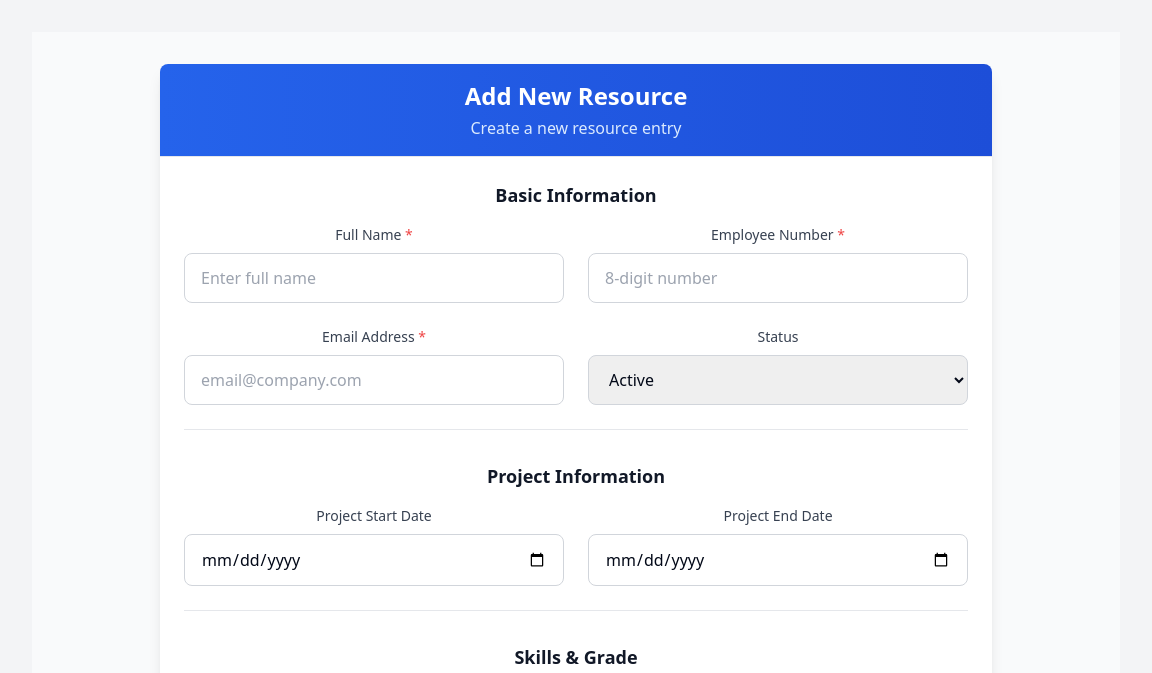
Test case: ResourceForm › Form Validation › should validate project dates
// Fill in required fields with invalid dates
Type "John Doe" into the field labelled "Full Name *".
click(374, 278); type("John Doe")  # box [184, 253, 564, 303]
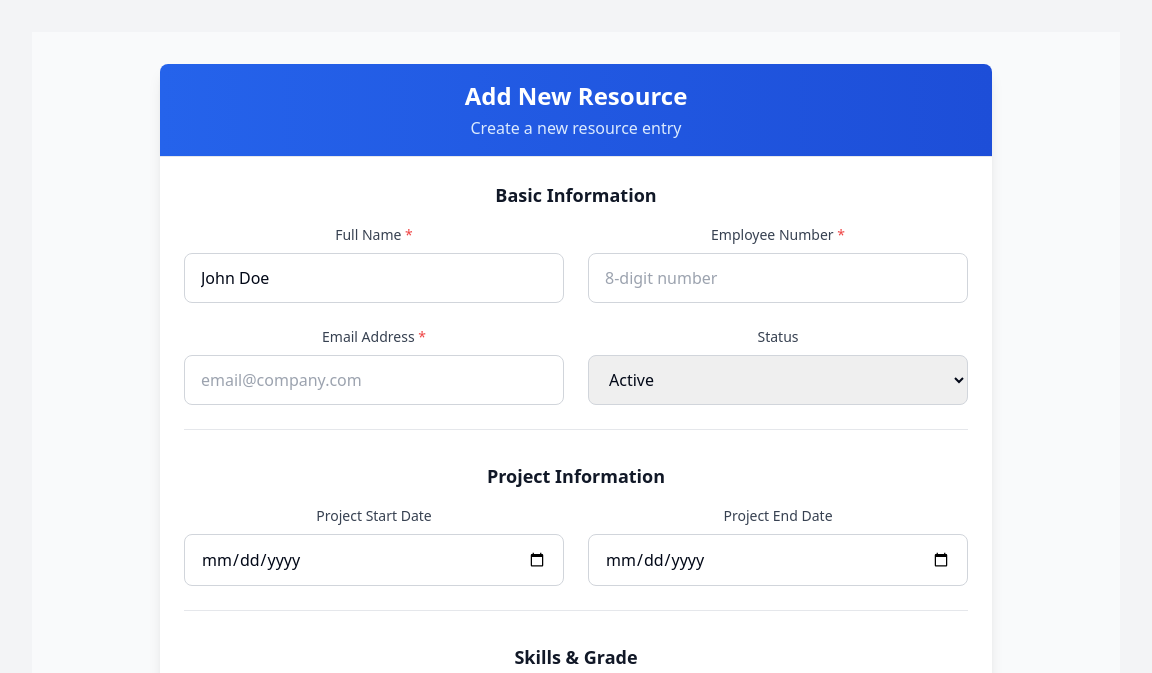
Type "12345678" into the field labelled "Employee Number *".
click(778, 278); type("12345678")  # box [588, 253, 968, 303]
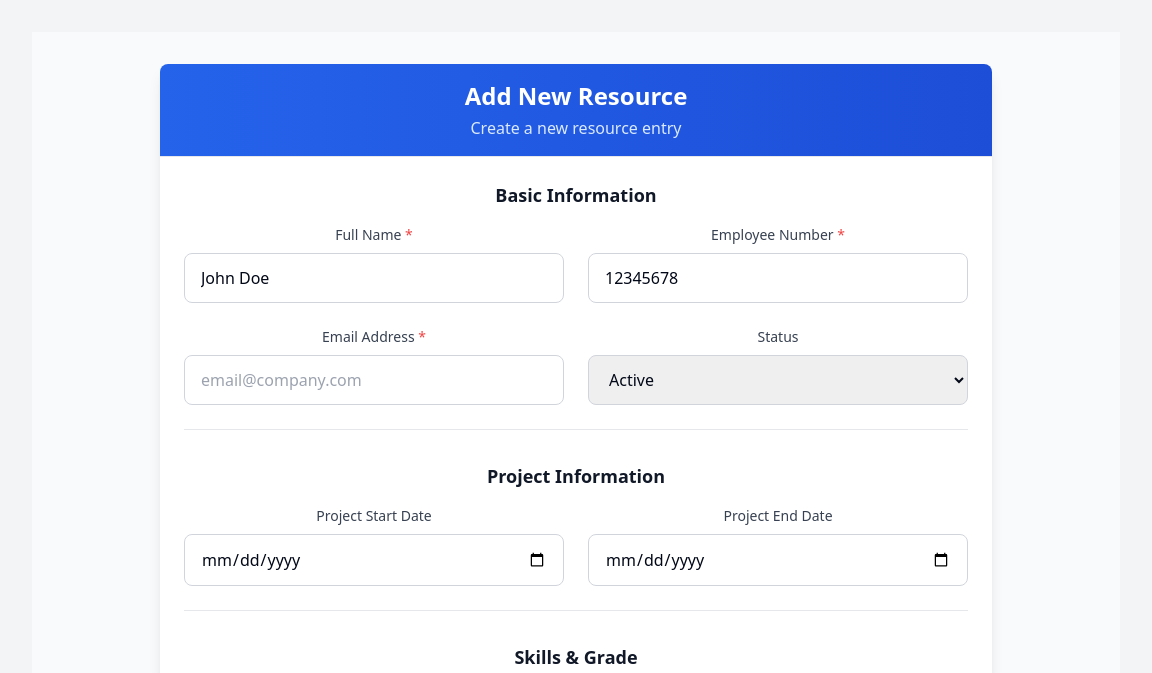
Type "john.doe@example.com" into the field labelled "Email Address *".
click(374, 380); type("john.doe@example.com")  # box [184, 355, 564, 405]
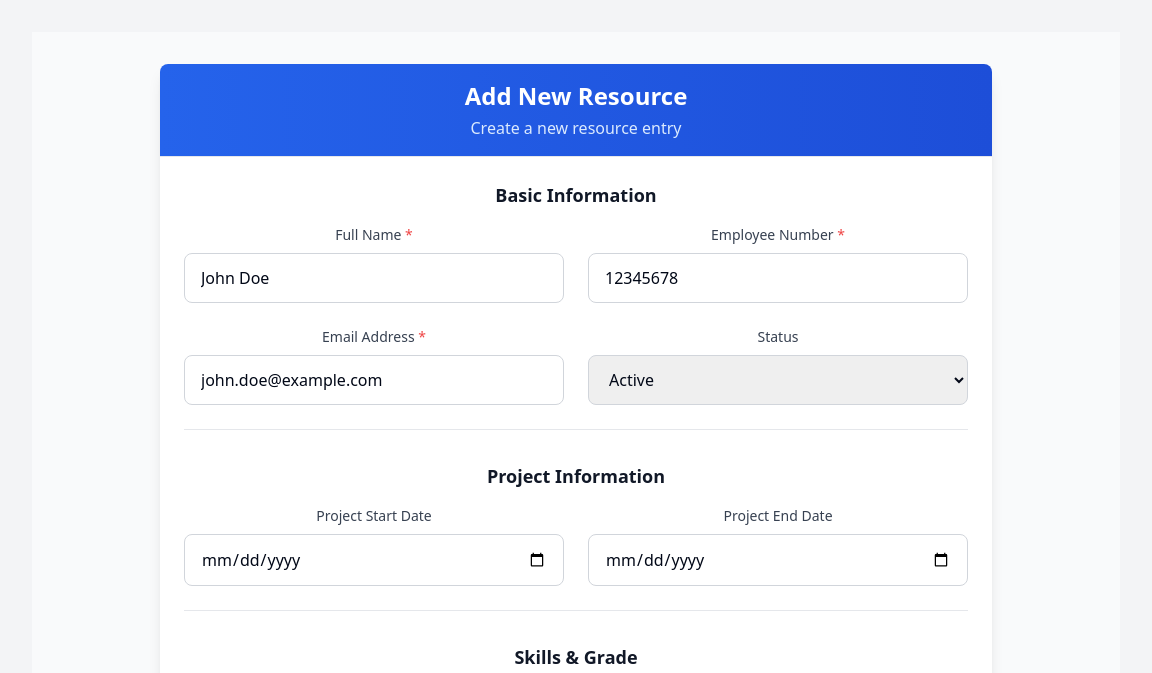
Type "2024-12-31" into the date field labelled "Project Start Date".
click(374, 560); type("2024-12-31")  # box [184, 534, 564, 586]
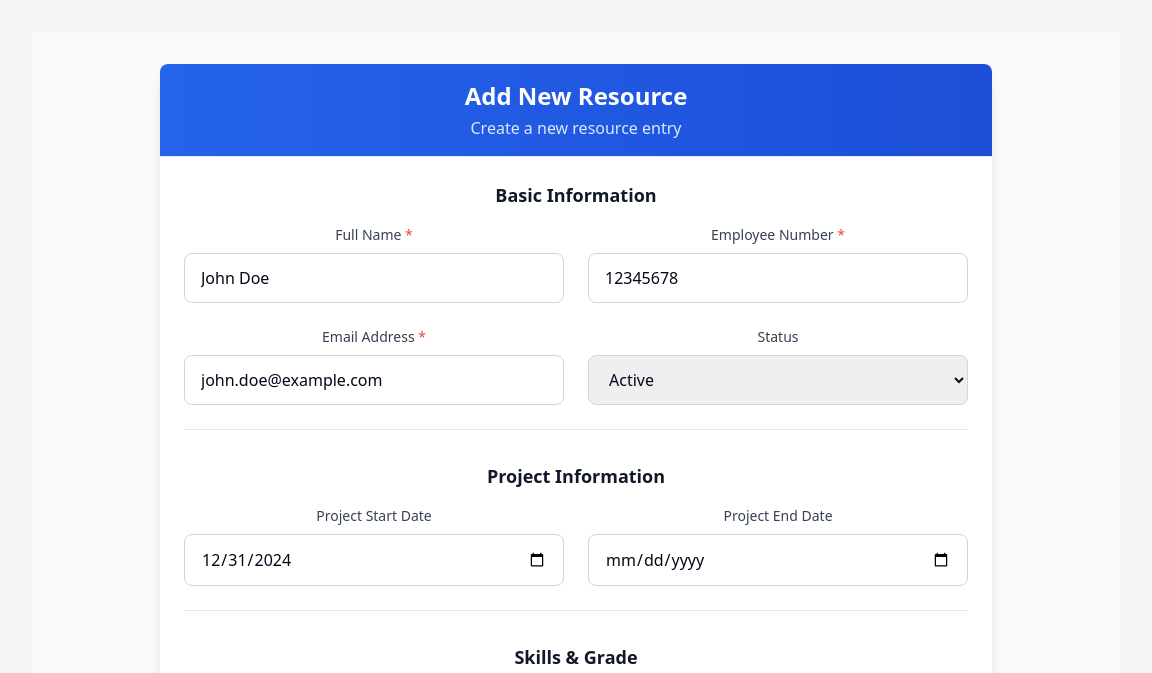
Type "2024-01-01" into the date field labelled "Project End Date".
click(778, 560); type("2024-01-01")  # box [588, 534, 968, 586]
(page scrolled)
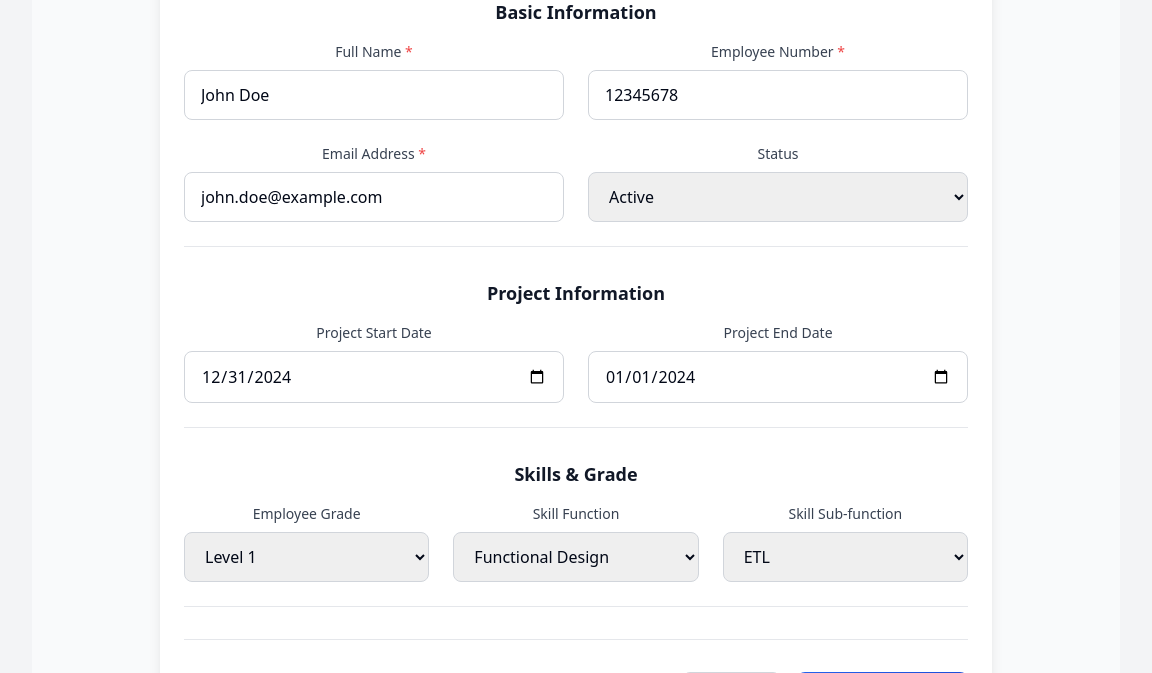
// Submit the form
Submit the form
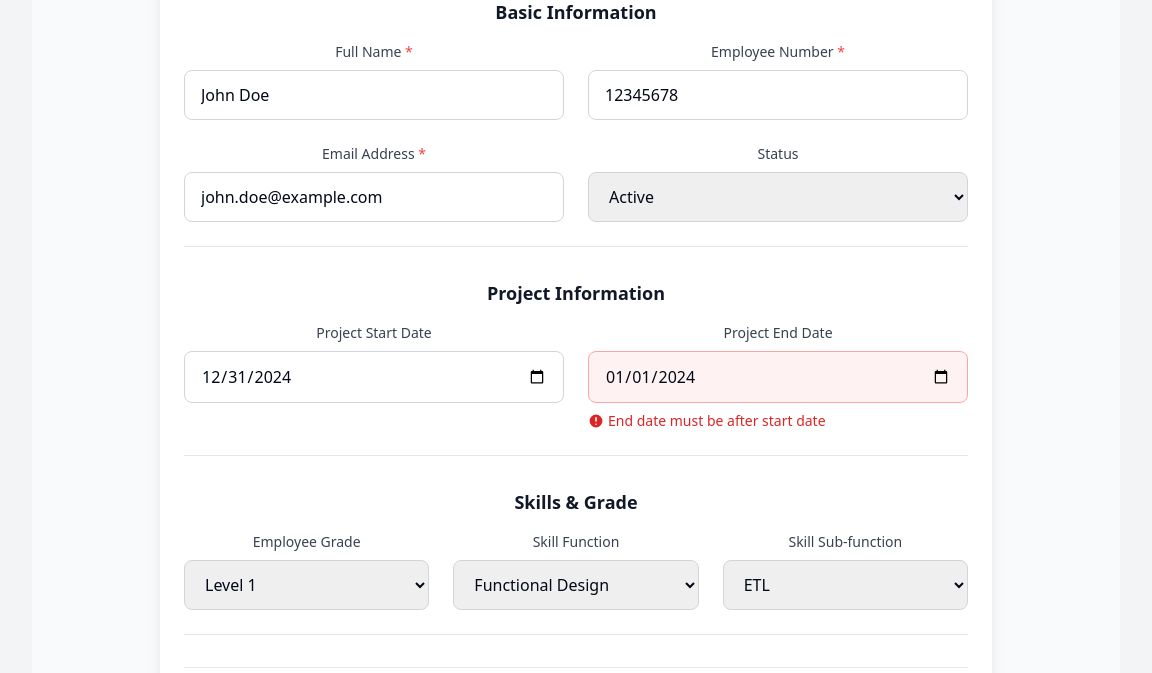
Check: the text "End date must be after start date" is shown, box [588, 411, 826, 430]
